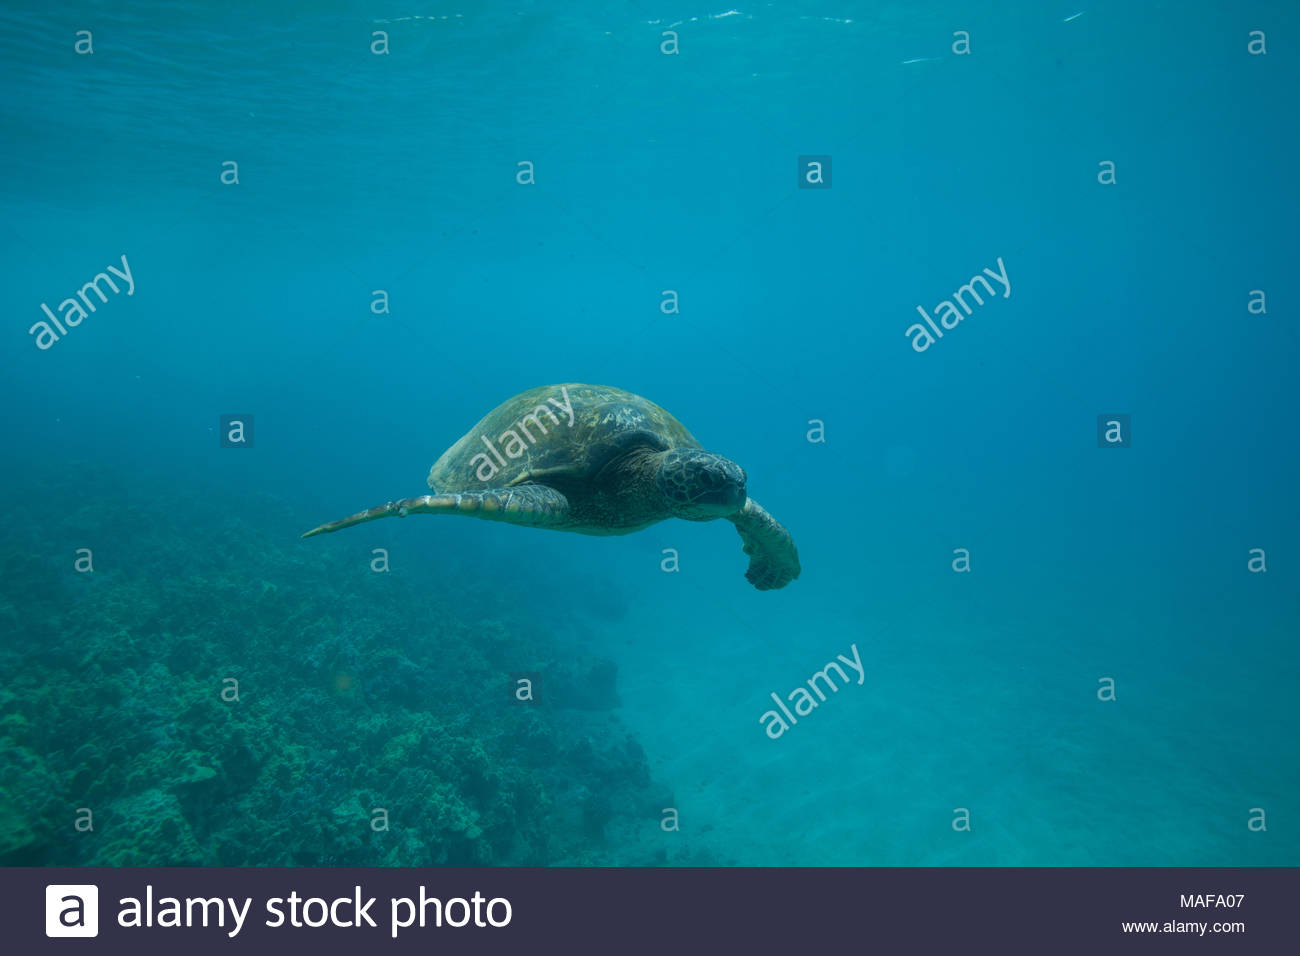trutle: (304, 353, 806, 620)
